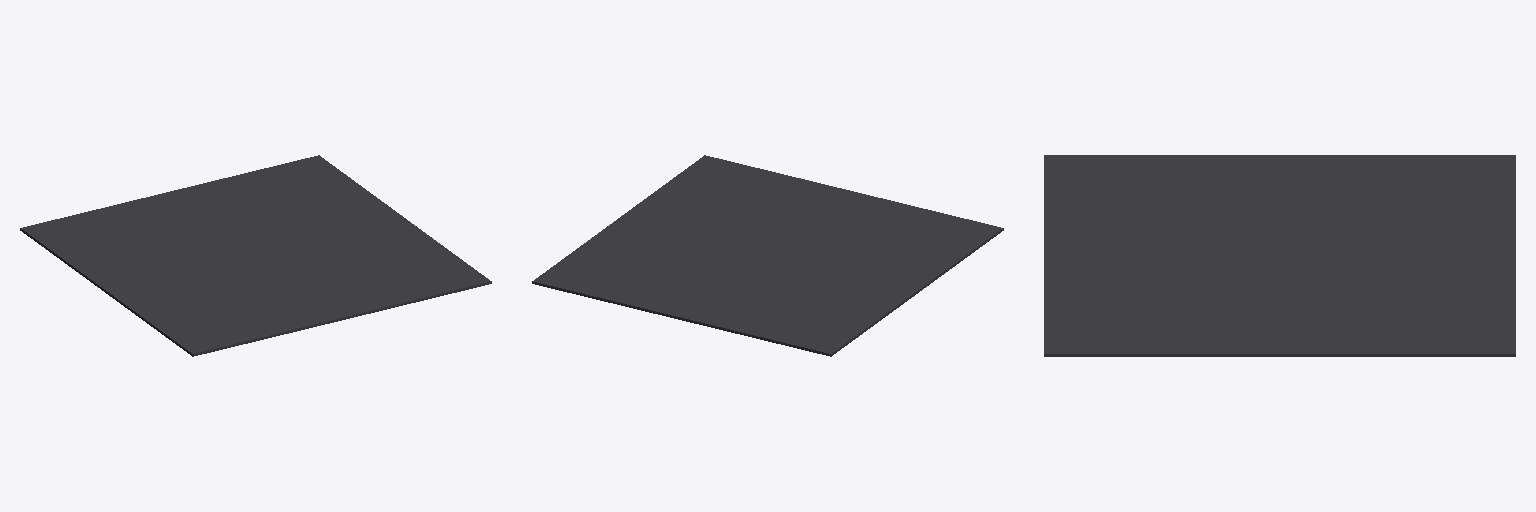
The robot description file, URDF, robot "cb_cube_mat":
<?xml version="1.0"?>
<!-- Cube grasp mat. Generated by FoundationTouch tools/contactbench/cube_tasks.py -->
<robot name="cb_cube_mat">
  <material name="c"><color rgba="0.30 0.30 0.32 1.0"/></material>
  <link name="receptive">
    <visual><origin xyz="0 0 0" rpy="0 0 0"/><geometry><mesh filename="cube_mat.obj" scale="1 1 1"/></geometry><material name="c"/></visual>
    <collision><origin xyz="0.0 0.0 0.0005" rpy="0 0 0"/><geometry><box size="0.12 0.12 0.001"/></geometry></collision>
  </link>
</robot>

--- What the picture shows (computed from the rendered views, not written in the file) ---
The picture shows the robot from 3 angles, left to right: view 1: azimuth 30°, elevation 25°; view 2: azimuth 150°, elevation 25°; view 3: azimuth 270°, elevation 25°; orthographic projection.
Model cb_cube_mat with 1 links and 0 joints (none), rooted at receptive, posed all joints at 0.
Visible links, largest first — view 1: receptive; view 2: receptive; view 3: receptive.
Link boxes in pixels (x1=…): receptive: x1=20, y1=155, x2=491, y2=356; receptive: x1=532, y1=155, x2=1003, y2=356; receptive: x1=1044, y1=155, x2=1515, y2=356.
Size in the robot's own frame: 0.12 by 0.12 by 0.001 metres.
1 mesh visuals loaded from 1 distinct referenced files (1 OBJ).
